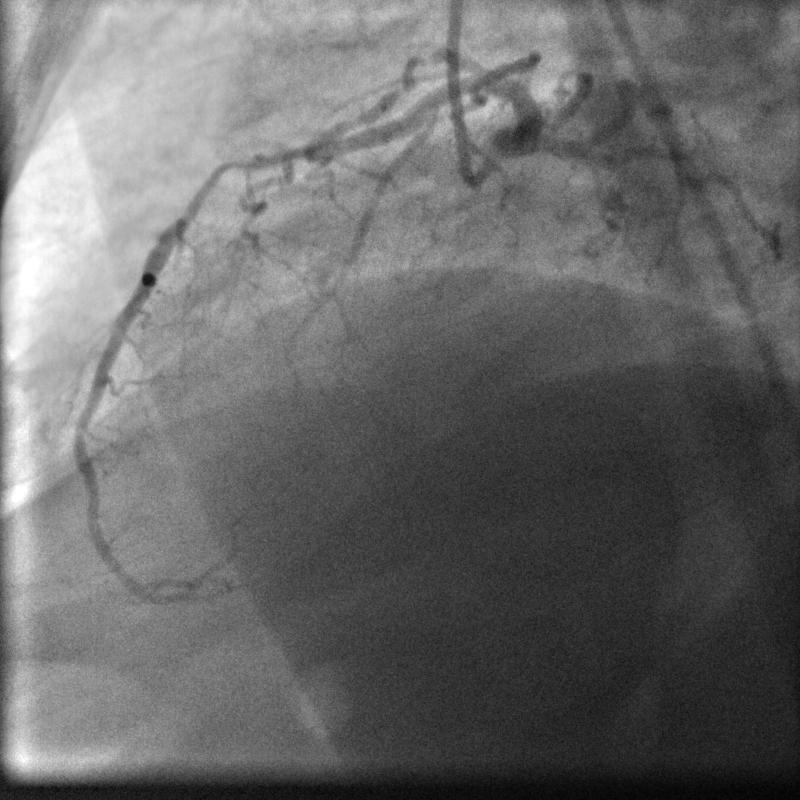Stenosis: (189, 157, 244, 212)
